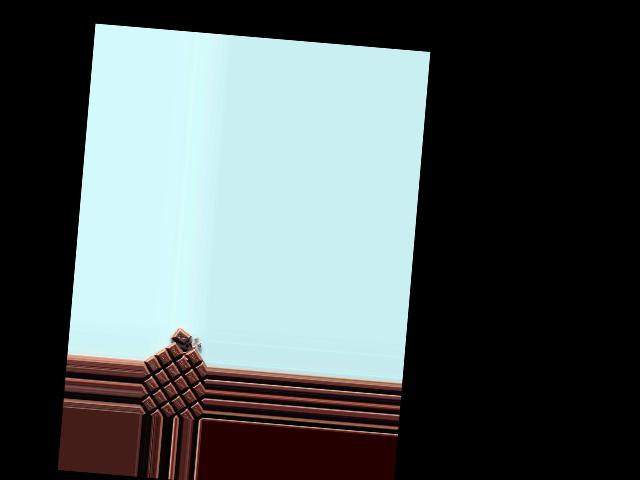chocolate: (141, 334, 208, 421)
